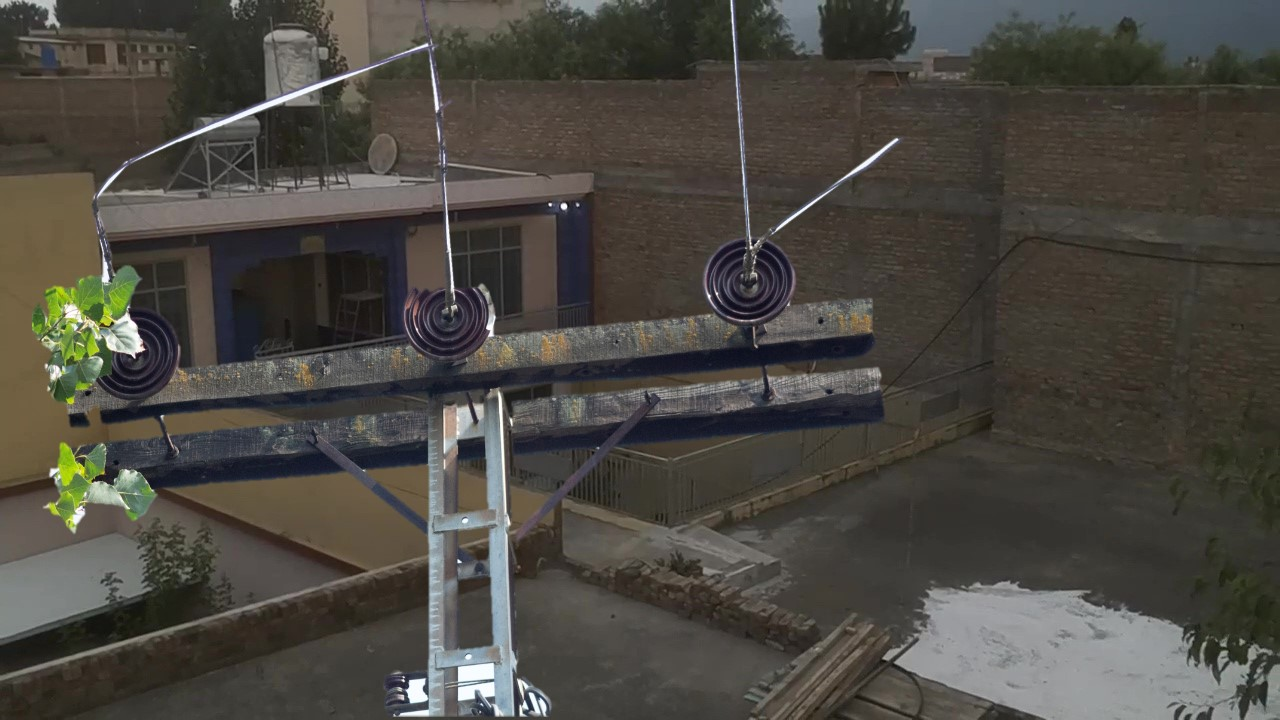defect_disc: (399, 273, 506, 363)
insulator_disc: (698, 234, 804, 330), (109, 304, 189, 404)
